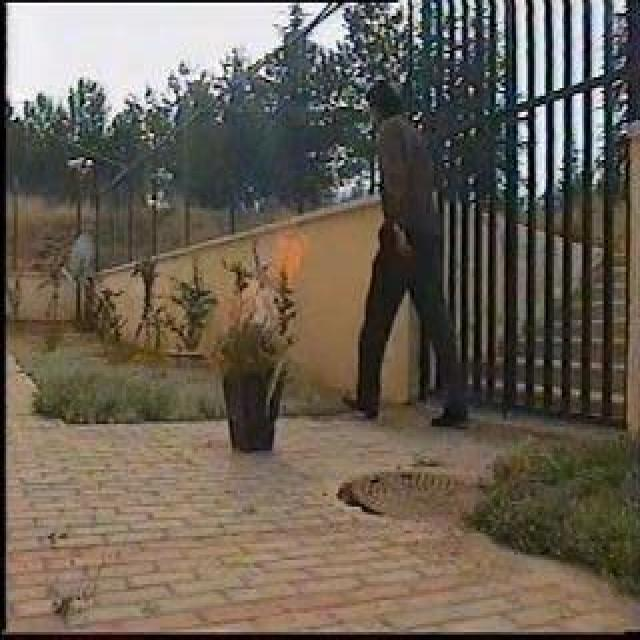Fire: (257, 221, 311, 296)
